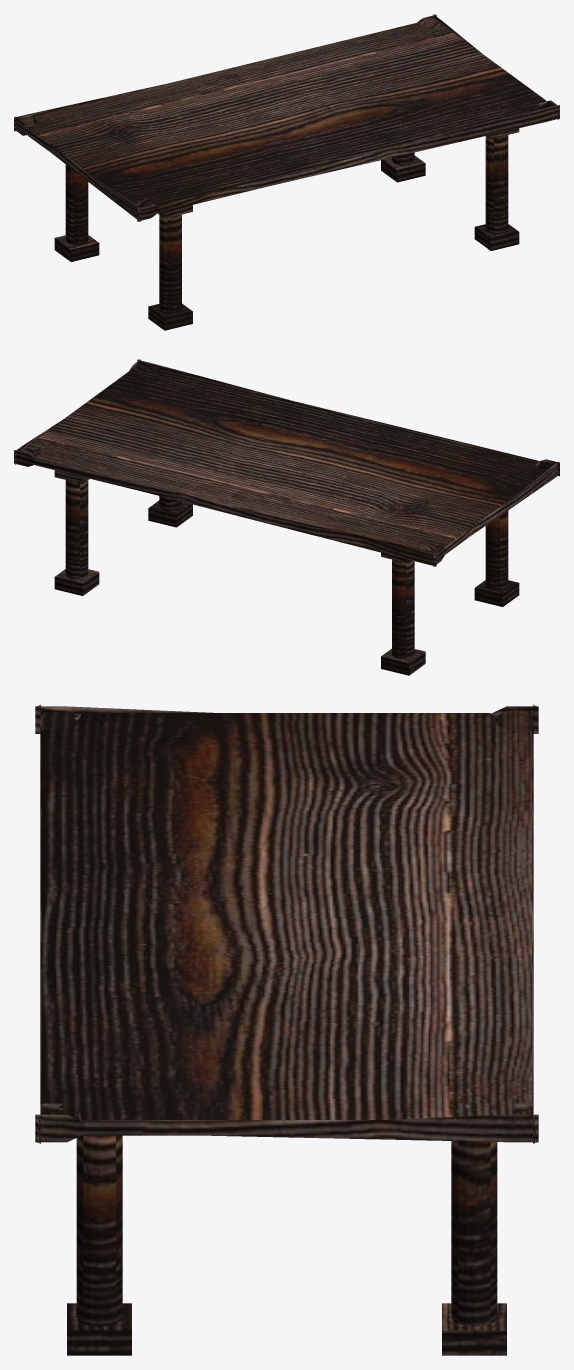
Rendered from Antique_Table_15.fbx.
The picture shows the model from 3 angles, top to bottom: view 1: azimuth 30°, elevation 25°; view 2: azimuth 150°, elevation 25°; view 3: azimuth 270°, elevation 25°; orthographic projection. The views are drawn at different scales.
Parts seen in each view (by area): view 1: Antique_Table; view 2: Antique_Table; view 3: Antique_Table.
Boxes of the visible parts, bbox=[...] form: Antique_Table: bbox=[14, 14, 559, 330]; Antique_Table: bbox=[14, 359, 559, 675]; Antique_Table: bbox=[35, 704, 538, 1355].
Size of the model in its own units: 2.41 by 0.7424 by 1.25.
Materials: 1 (1 with a texture image).
